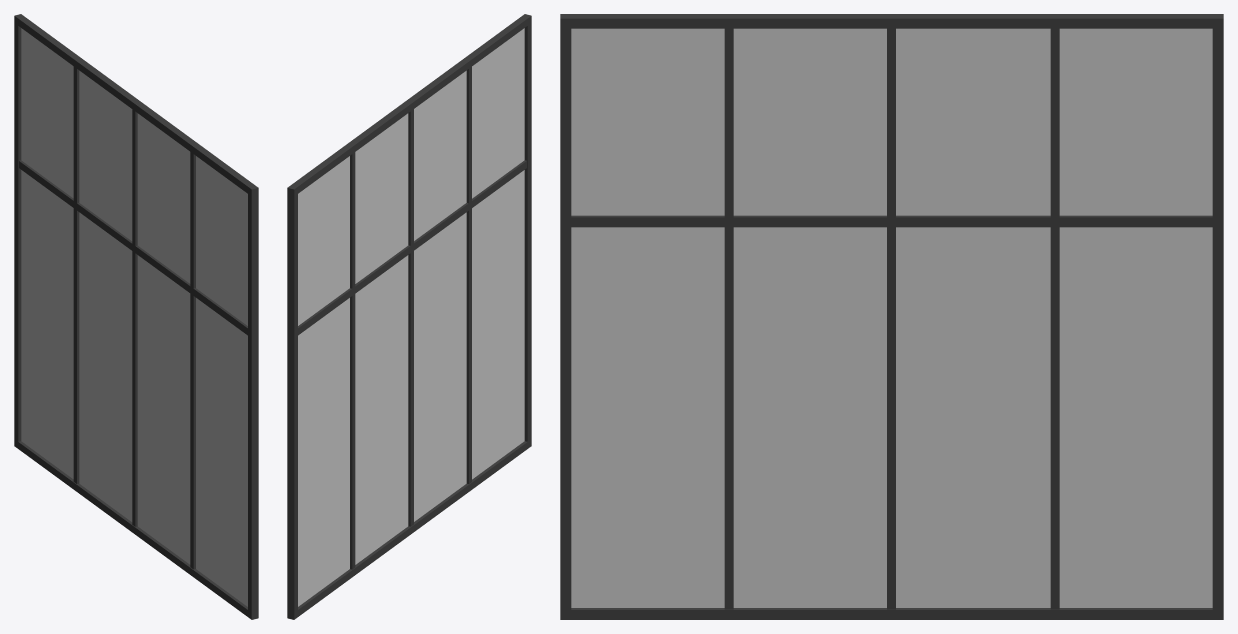
The model's file is Seperator03.fbx.
3 views of the same model, side by side, from view 1: azimuth 30°, elevation 25°; view 2: azimuth 150°, elevation 25°; view 3: azimuth 270°, elevation 25° (orthographic). The views are drawn at different scales.
Visible parts, largest first — view 1: Seperator03; view 2: Seperator03; view 3: Seperator03.
Boxes of the visible parts, x1,y1,x2,y2 form: Seperator03: (14,14,258,619); Seperator03: (287,14,531,619); Seperator03: (560,14,1223,619).
Bounding box in the file's own units: 0.0501 × 3 × 3.
